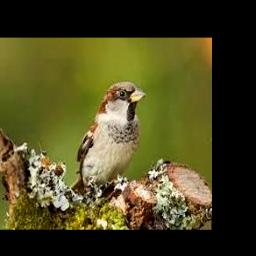Sparrow: (69, 82, 146, 196)
